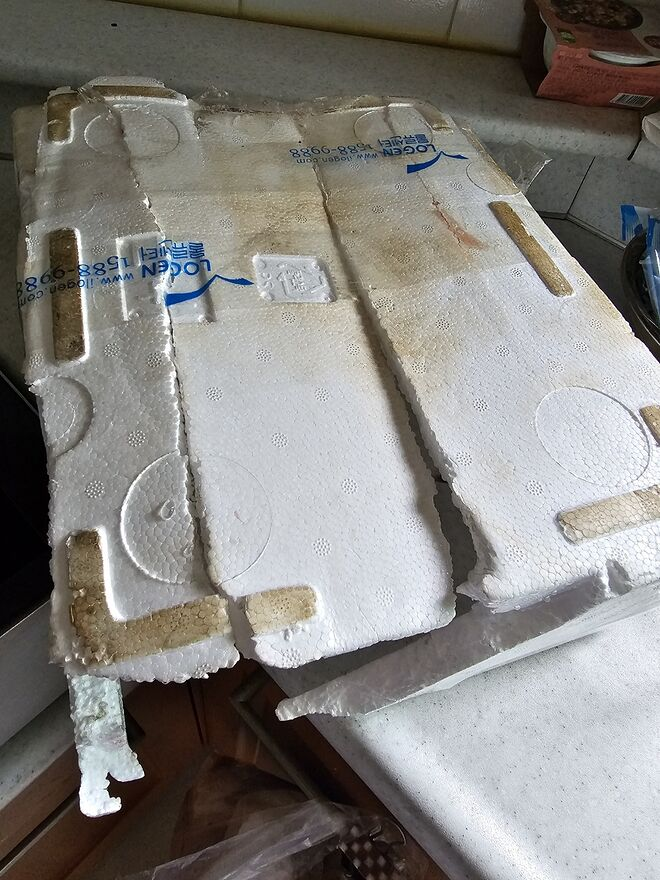damaged package: (0, 97, 645, 826)
